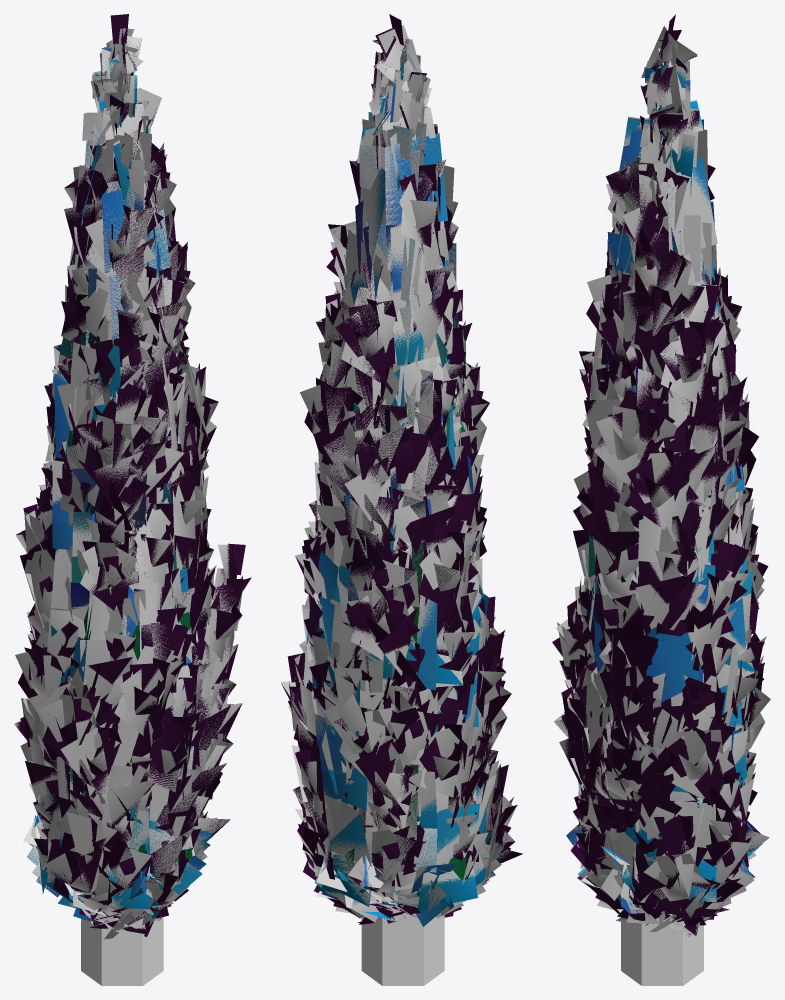
The model's file is cypress_tree.dae.
3 views of the same model, side by side, from view 1: azimuth 30°, elevation 25°; view 2: azimuth 150°, elevation 25°; view 3: azimuth 270°, elevation 25° (orthographic).
Parts seen in each view (by area): view 1: cypress_tree_a600, cypress_tree_a400, cypress_tree_a200, Colmesh_cypress_tree-1; view 2: cypress_tree_a600, cypress_tree_a400, cypress_tree_a200, Colmesh_cypress_tree-1; view 3: cypress_tree_a600, cypress_tree_a400, cypress_tree_a200, Colmesh_cypress_tree-1.
Part boxes in pixels (left/top/right/bottom): cypress_tree_a600: left=14, top=14, right=251, bottom=936; cypress_tree_a400: left=14, top=28, right=249, bottom=939; cypress_tree_a200: left=23, top=29, right=230, bottom=938; Colmesh_cypress_tree-1: left=81, top=915, right=163, bottom=985; cypress_tree_a600: left=281, top=14, right=522, bottom=926; cypress_tree_a400: left=288, top=29, right=515, bottom=922; cypress_tree_a200: left=280, top=25, right=512, bottom=922; Colmesh_cypress_tree-1: left=361, top=894, right=444, bottom=985; cypress_tree_a600: left=552, top=14, right=768, bottom=936; cypress_tree_a400: left=554, top=27, right=770, bottom=936; cypress_tree_a200: left=556, top=26, right=764, bottom=929; Colmesh_cypress_tree-1: left=621, top=914, right=703, bottom=985.
Bounding box in the file's own units: 1.64 × 1.48 × 7.18.
